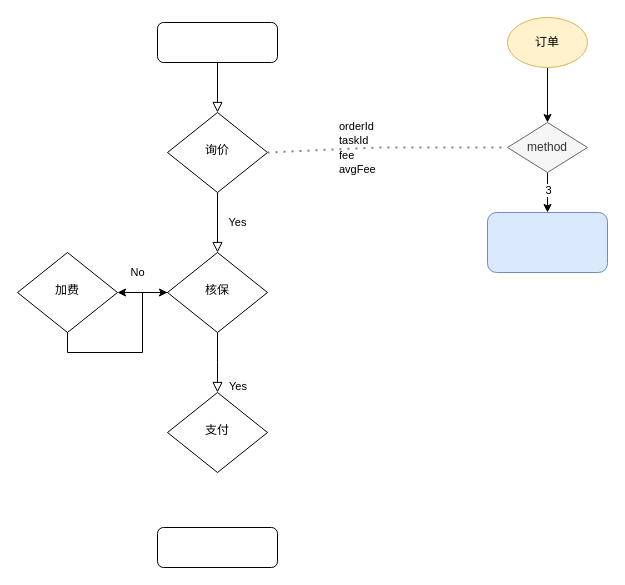
The diagram is 625 pixels wide and 585 high, and some of its shapes have lost their labels. The centre of each missing label's shape, as x and y in pixels:
"保单出单通知" goes at point 217,547.
"投保" goes at point 217,42.
"生成订单" goes at point 547,242.
